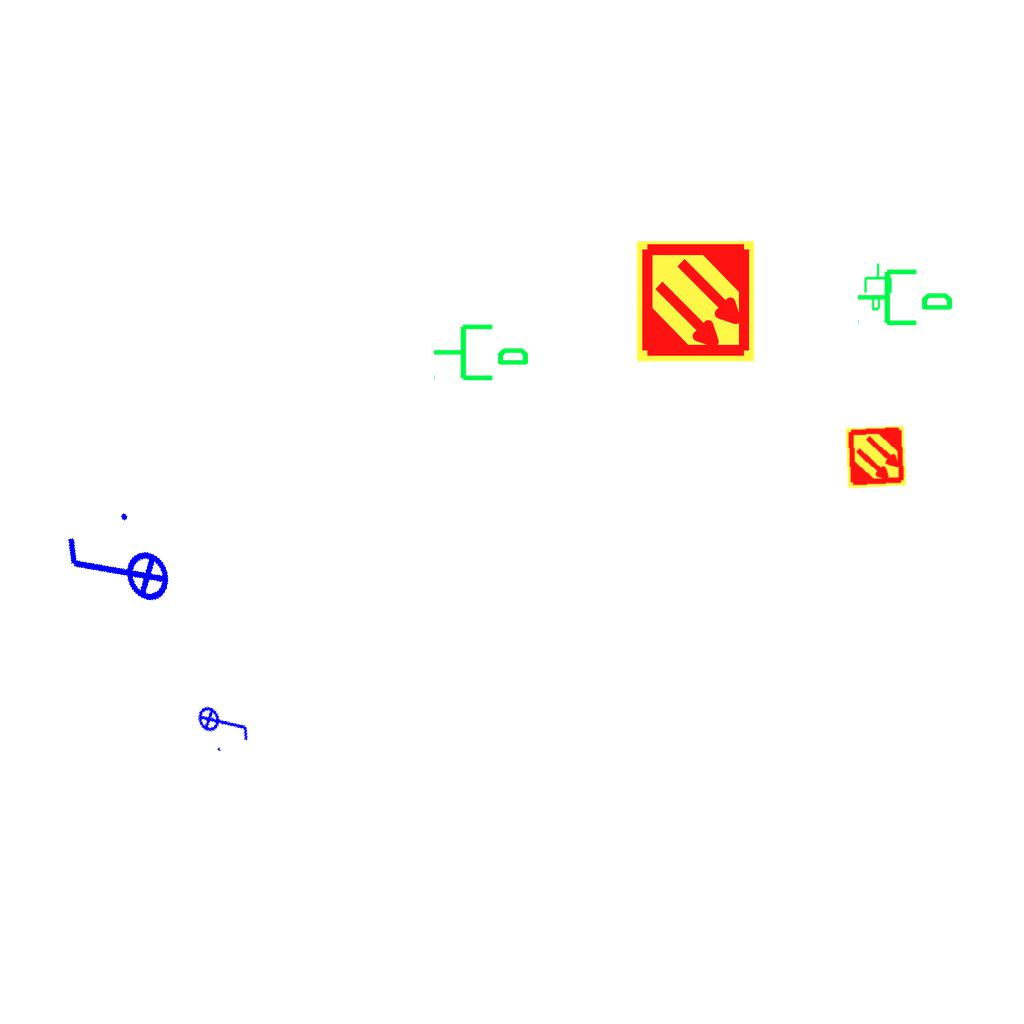ASR_Ansaugrauchmelder: (633, 239, 758, 364), (843, 424, 909, 490)
Ausschalter_beleuchtet: (51, 500, 183, 640), (192, 688, 256, 758)
Datenanschluss_einfach: (431, 316, 531, 385), (855, 261, 955, 330), (862, 262, 896, 312)
